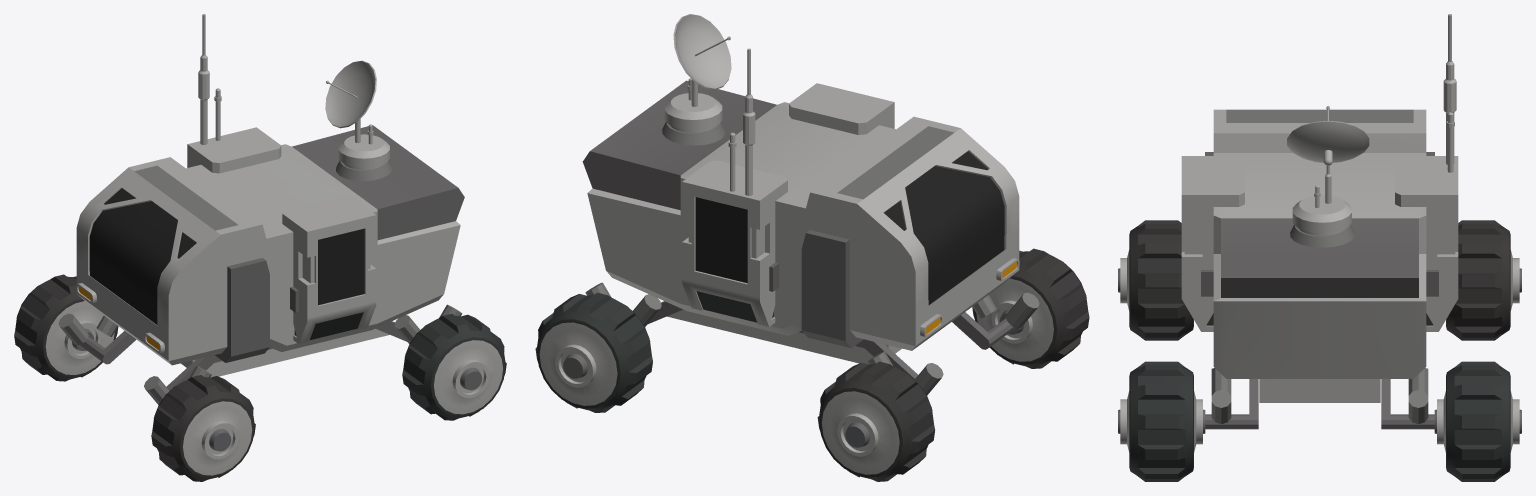
Rendered from suv_generic_b.glb.
3 renders of one model, left to right at view 1: azimuth 30°, elevation 25°; view 2: azimuth 150°, elevation 25°; view 3: azimuth 270°, elevation 25°, orthographic. The views are drawn at different scales.
Visible parts, largest first — view 1: Wheel_4.001; view 2: Wheel_4.001; view 3: Wheel_4.001.
Boxes of the visible parts, bbox=[...] form: Wheel_4.001: bbox=[14, 14, 506, 481]; Wheel_4.001: bbox=[535, 14, 1089, 481]; Wheel_4.001: bbox=[1118, 14, 1521, 481].
Size of the model in its own units: 4.7 by 4.45 by 4.17.
Materials: 1 (1 with a texture image).
